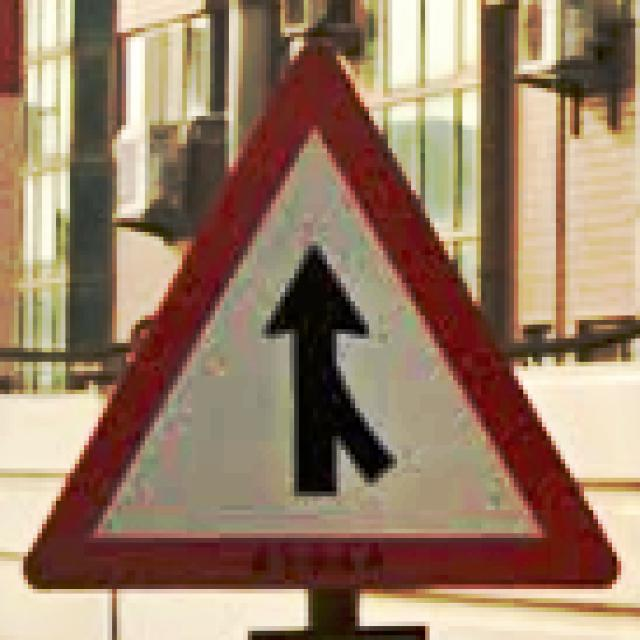rightmerge: (19, 32, 621, 594)
